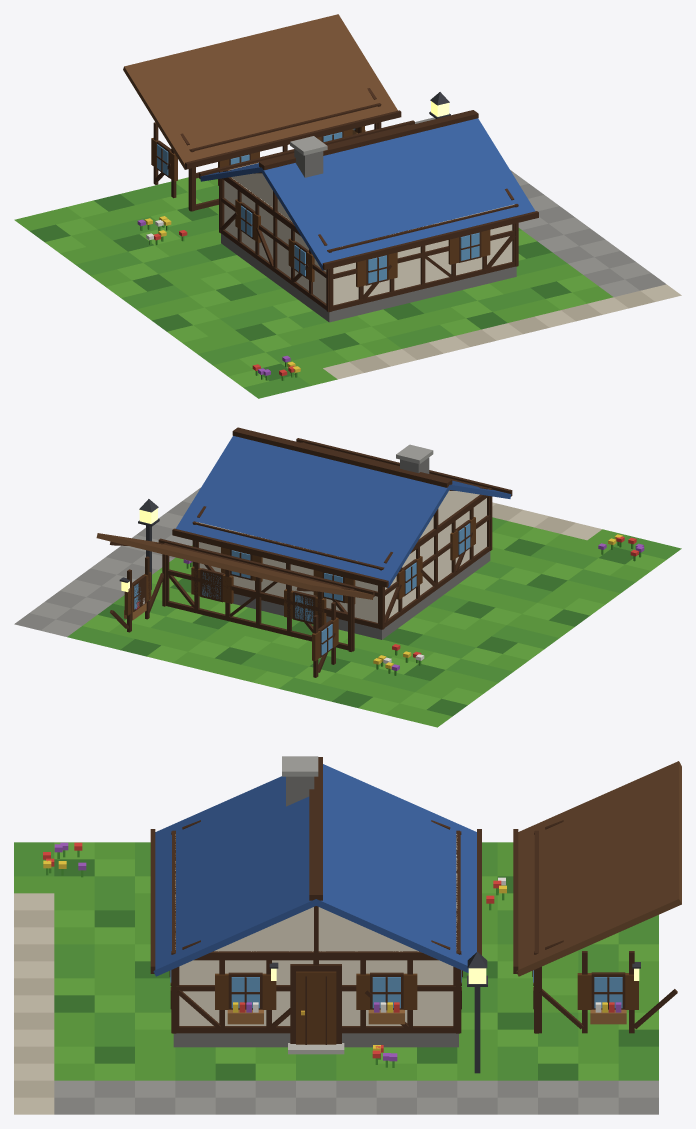
File: chunk_5_10.glb
3 views of the same model, one above another, from view 1: azimuth 30°, elevation 25°; view 2: azimuth 150°, elevation 25°; view 3: azimuth 270°, elevation 25° (orthographic). The views are drawn at different scales.
Visible parts, largest first — view 1: chunk_5_10; view 2: chunk_5_10; view 3: chunk_5_10.
Part boxes in pixels (bbox=[...]): chunk_5_10: bbox=[14, 14, 681, 398]; chunk_5_10: bbox=[14, 427, 681, 727]; chunk_5_10: bbox=[14, 756, 681, 1114].
Bounding box in the file's own units: 16 × 4.94 × 16.57.
